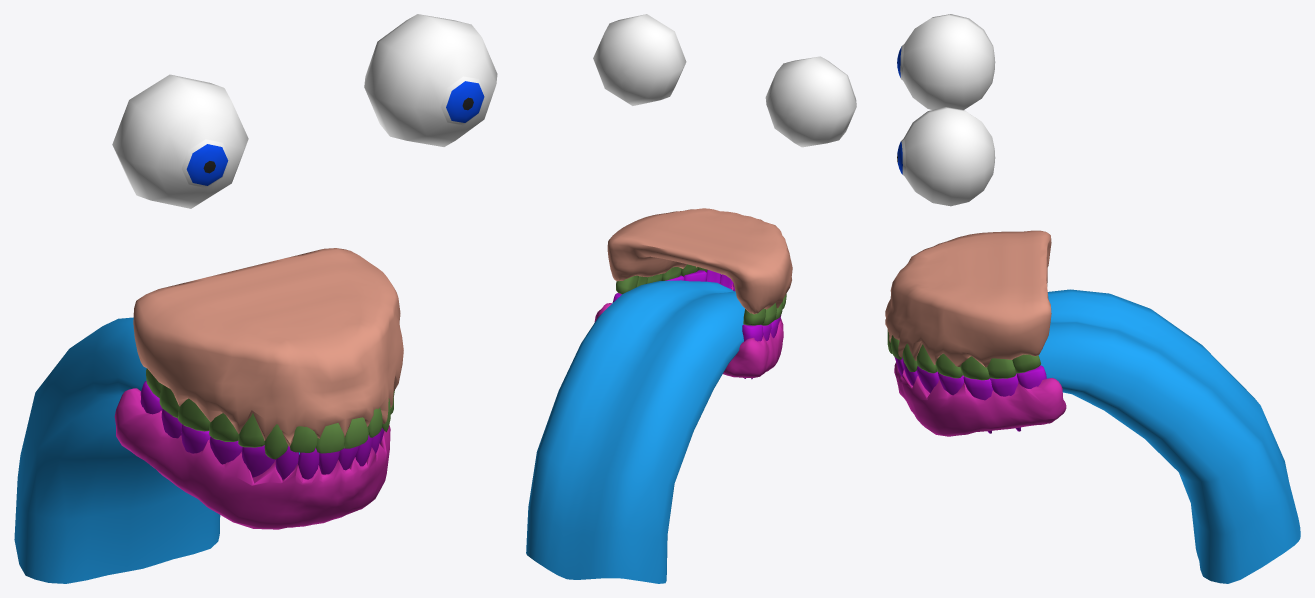
The model's file is linnet.obj.
3 renders of one model, left to right at view 1: azimuth 30°, elevation 25°; view 2: azimuth 150°, elevation 25°; view 3: azimuth 270°, elevation 25°, orthographic. The views are drawn at different scales.
Parts seen in each view (by area): view 1: GumsUpper_M_GeoRndr, Tongue_M_GeoRndr, GumsLower_M_GeoRndr, OuterEye_L_GeoRndr, OuterEye_R_GeoRndr, TeethUpper_M_GeoRndr, TeethLower_M_GeoRndr; view 2: Tongue_M_GeoRndr, GumsUpper_M_GeoRndr, OuterEye_R_GeoRndr, OuterEye_L_GeoRndr, GumsLower_M_GeoRndr, TeethUpper_M_GeoRndr, TeethLower_M_GeoRndr; view 3: Tongue_M_GeoRndr, GumsUpper_M_GeoRndr, OuterEye_L_GeoRndr, OuterEye_R_GeoRndr, GumsLower_M_GeoRndr, TeethUpper_M_GeoRndr, TeethLower_M_GeoRndr.
Part boxes in pixels (x1,y1,x2,y2): GumsUpper_M_GeoRndr: (133, 248, 403, 446); Tongue_M_GeoRndr: (14, 317, 299, 583); GumsLower_M_GeoRndr: (114, 388, 390, 529); OuterEye_L_GeoRndr: (364, 14, 497, 146); OuterEye_R_GeoRndr: (112, 74, 248, 208); TeethUpper_M_GeoRndr: (146, 368, 394, 459); TeethLower_M_GeoRndr: (140, 381, 384, 479); Tongue_M_GeoRndr: (526, 280, 744, 583); GumsUpper_M_GeoRndr: (607, 208, 792, 314); OuterEye_R_GeoRndr: (765, 56, 856, 147); OuterEye_L_GeoRndr: (593, 14, 686, 105); GumsLower_M_GeoRndr: (594, 282, 783, 377); TeethUpper_M_GeoRndr: (616, 264, 786, 325); TeethLower_M_GeoRndr: (612, 270, 781, 379); Tongue_M_GeoRndr: (1038, 289, 1300, 583); GumsUpper_M_GeoRndr: (885, 230, 1051, 367); OuterEye_L_GeoRndr: (897, 107, 995, 206); OuterEye_R_GeoRndr: (897, 14, 995, 109); GumsLower_M_GeoRndr: (894, 362, 1066, 436); TeethUpper_M_GeoRndr: (887, 329, 1040, 380); TeethLower_M_GeoRndr: (894, 357, 1046, 433).
Size of the model in its own units: 0.8928 by 1.48 by 1.14.
8 materials, 3 textured.
